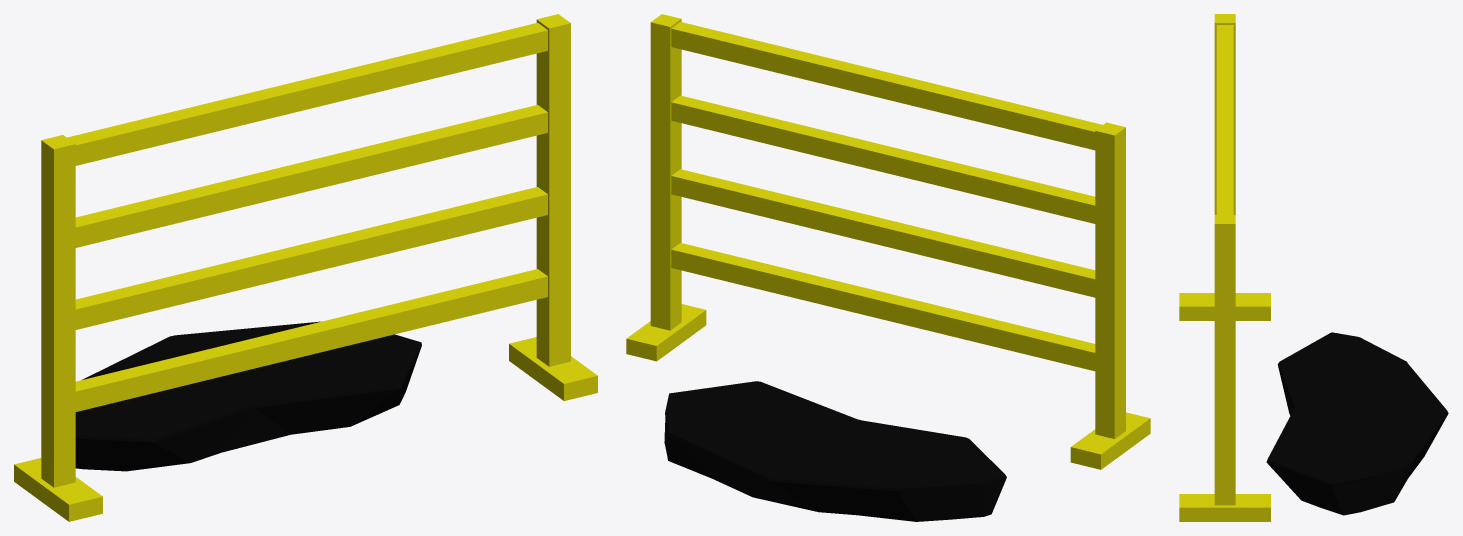
The model's file is Valla agujero.fbx.
3 renders of one model, left to right at view 1: azimuth 30°, elevation 25°; view 2: azimuth 150°, elevation 25°; view 3: azimuth 270°, elevation 25°, orthographic. The views are drawn at different scales.
Parts seen in each view (by area): view 1: Cube.002, Icosphere, Cube, Cube.001, Cube.003, Cube.004; view 2: Cube.002, Icosphere, Cube, Cube.001, Cube.004, Cube.003; view 3: Icosphere, Cube.001, Cube.002, Cube.004, Cube.003, Cube.
Boxes of the visible parts, bbox=[...] form: Cube.002: bbox=[67, 22, 547, 411]; Icosphere: bbox=[75, 321, 421, 471]; Cube: bbox=[41, 135, 75, 487]; Cube.001: bbox=[536, 14, 570, 366]; Cube.003: bbox=[14, 458, 102, 521]; Cube.004: bbox=[509, 337, 597, 400]; Cube.002: bbox=[671, 22, 1102, 371]; Icosphere: bbox=[664, 381, 1006, 521]; Cube: bbox=[1095, 122, 1125, 438]; Cube.001: bbox=[650, 14, 681, 330]; Cube.004: bbox=[626, 304, 706, 361]; Cube.003: bbox=[1070, 412, 1150, 469]; Icosphere: bbox=[1266, 332, 1448, 515]; Cube.001: bbox=[1214, 215, 1235, 505]; Cube.002: bbox=[1216, 25, 1233, 214]; Cube.004: bbox=[1179, 494, 1270, 521]; Cube.003: bbox=[1179, 293, 1270, 320]; Cube: bbox=[1214, 14, 1235, 214].
Size of the model in its own units: 475 by 336 by 252.
